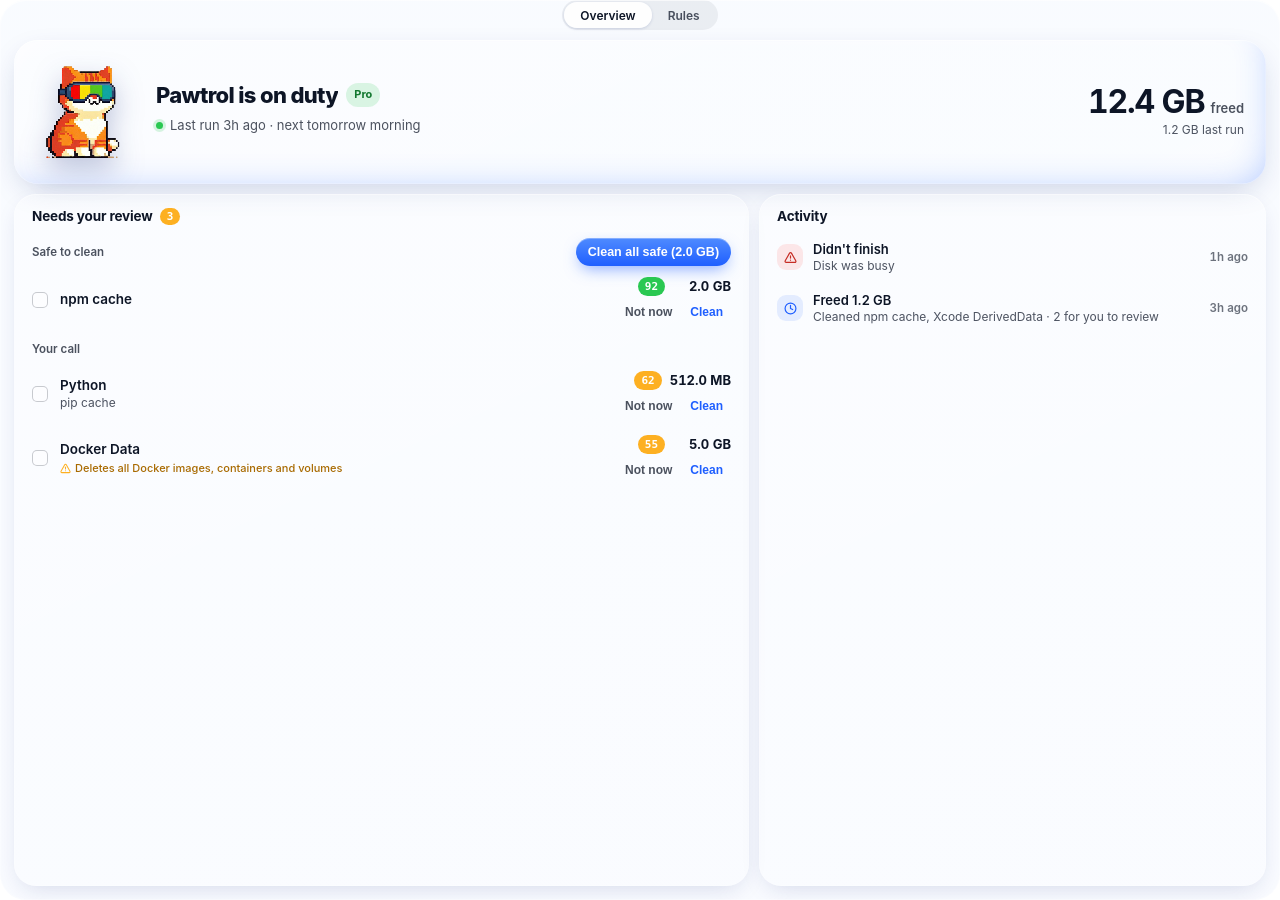
Test case: Pawtrol dashboard › says it can't be undone when Move to Trash is off
Click the button "Clean" below "5.0 GB" at coordinates (707, 470), box [682,459,731,481]
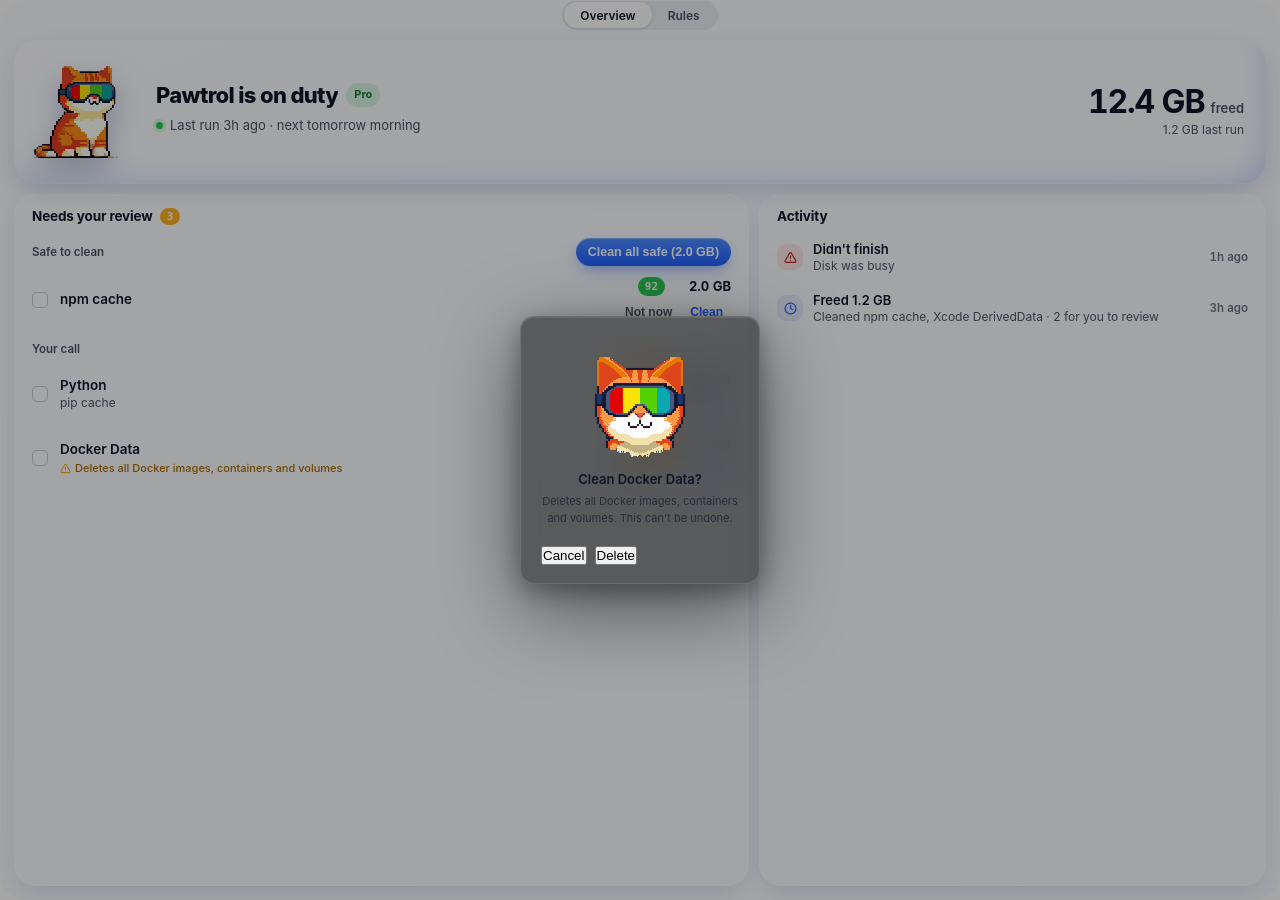
Expected: the button "Delete" is shown, [594,546,637,565]
